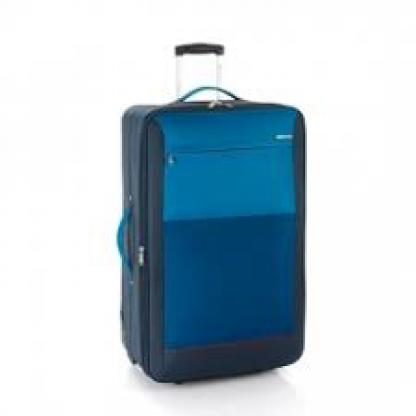maleta: (104, 91, 326, 401)
